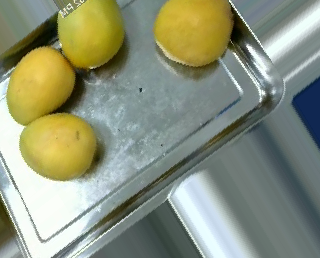Mango: (6, 44, 75, 126), (153, 0, 234, 65), (17, 113, 95, 179), (58, 0, 125, 69)
